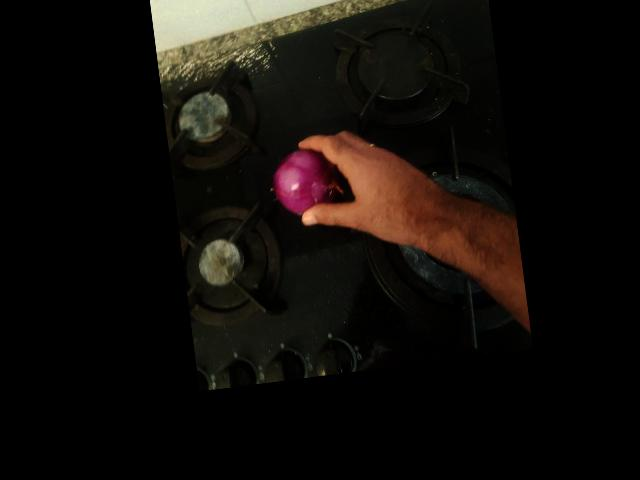onion: (200, 32, 280, 103)
